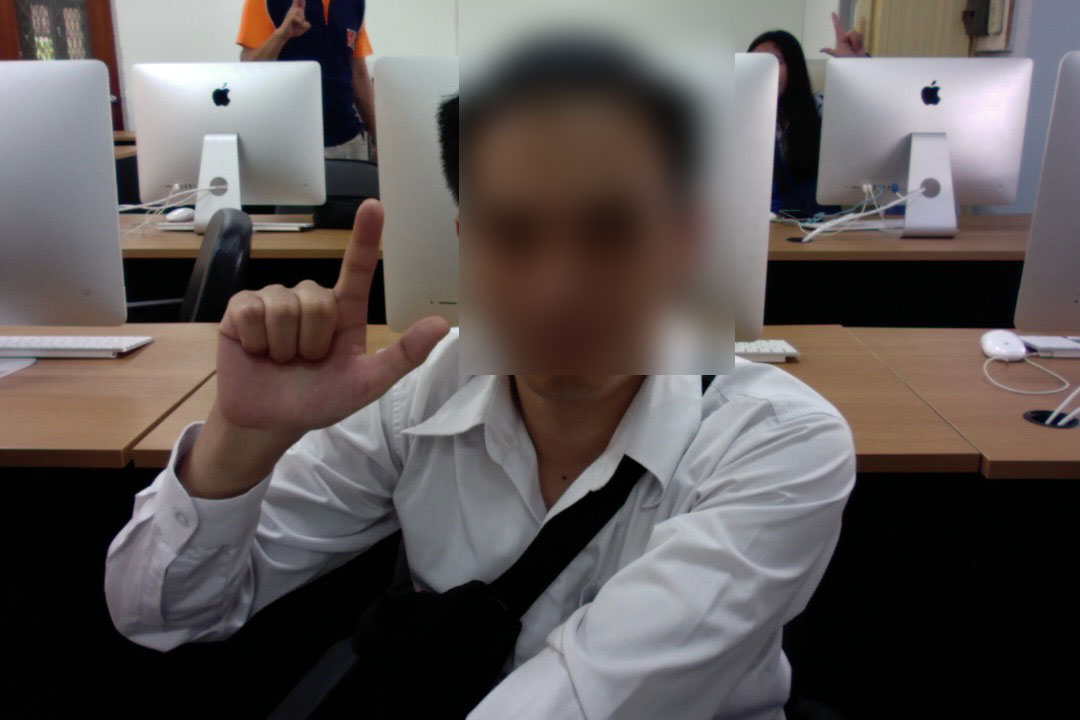lor: (162, 183, 458, 447)
